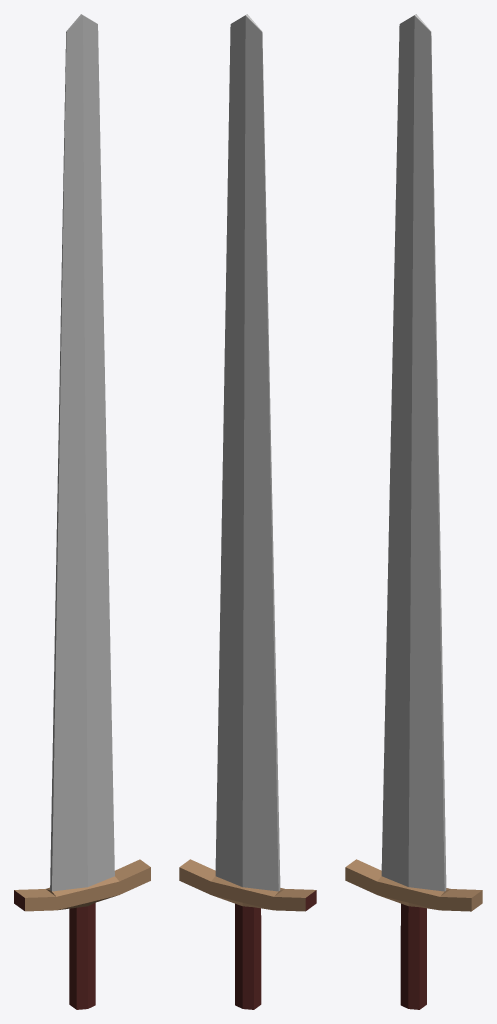
The model's file is Sword.fbx.
3 views of the same model, side by side, from view 1: azimuth 30°, elevation 25°; view 2: azimuth 150°, elevation 25°; view 3: azimuth 330°, elevation 25° (orthographic).
Parts seen in each view (by area): view 1: Sword(0); view 2: Sword(0); view 3: Sword(0).
Part boxes in pixels (x1,y1,x2,y2): Sword(0): (14, 14, 150, 1009); Sword(0): (179, 14, 316, 1009); Sword(0): (345, 14, 482, 1009).
Bounding box in the file's own units: 60 × 450 × 9.12.
